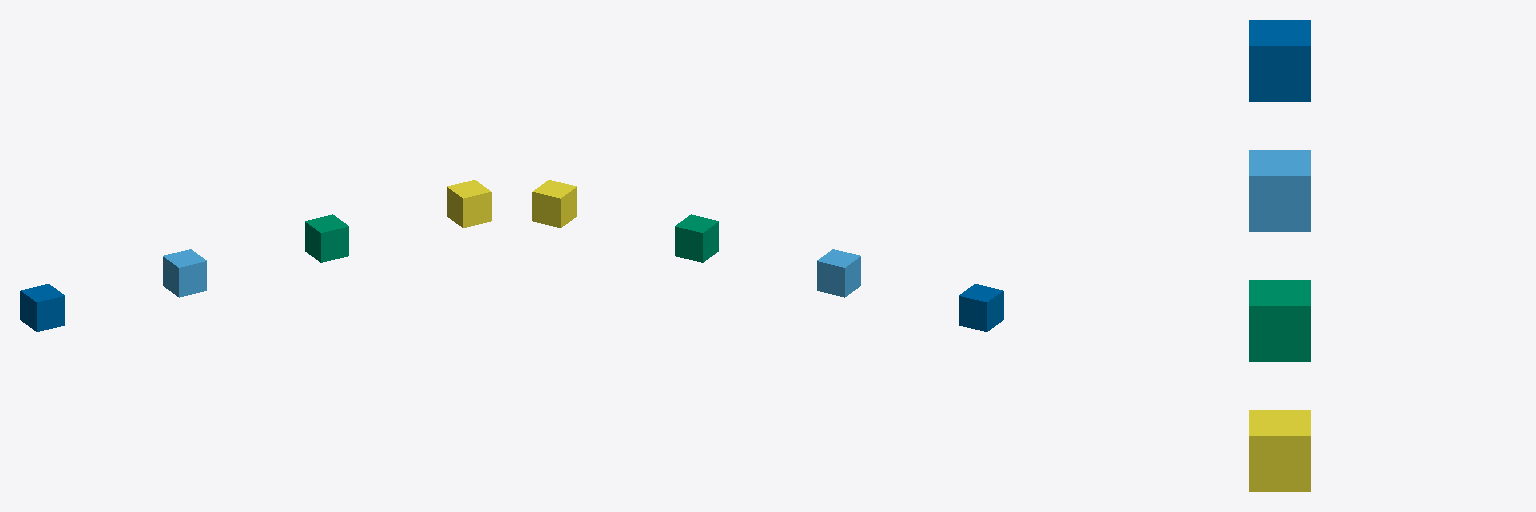
URDF robot description (bot):
<?xml version="1.0" ?>

<robot name="bot" xmlns:xacro="https://www.ros.org/wiki/xacro" >

<gazebo>
    <plugin name="gazebo_ros_control" filename="libgazebo_ros_control.so">
    <robotNamespace>/bot</robotNamespace>
    </plugin>
</gazebo>  

<link name="world" /> 

<gazebo reference="camera1">
  <sensor type="camera" name="camera1">
    <update_rate>30.0</update_rate>
    <camera name="head">
      <horizontal_fov>1.6862634</horizontal_fov>
      <image>
        <width>800</width>
        <height>800</height>
        <format>R8G8B8</format>
      </image>
      <clip>
        <near>0.02</near>
        <far>300</far>
      </clip>
      <noise>
        <type>gaussian</type>
        <!-- Noise is sampled independently per pixel on each frame.
             That pixel's noise value is added to each of its color
             channels, which at that point lie in the range [0,1]. -->
        <mean>0.0</mean>
        <stddev>0.007</stddev>
      </noise>
    </camera>
    <plugin name="camera_controller" filename="libgazebo_ros_camera.so">
      <alwaysOn>true</alwaysOn>
      <updateRate>0.0</updateRate>
      <cameraName>camera1</cameraName>
      <imageTopicName>image_raw</imageTopicName>
      <cameraInfoTopicName>camera_info</cameraInfoTopicName>
      <frameName>camera1</frameName>
      <hackBaseline>0.07</hackBaseline>
      <distortionK1>0.0</distortionK1>
      <distortionK2>0.0</distortionK2>
      <distortionK3>0.0</distortionK3>
      <distortionT1>0.0</distortionT1>
      <distortionT2>0.0</distortionT2>
    </plugin>
  </sensor>
</gazebo>



  <joint name="camera_joint1" type="fixed">
    <axis xyz="0 1 0" />
    <origin xyz="-0.25 0 1" rpy="0 1.571 0"/>
    <parent link="world"/>
    <child link="camera1"/>
  </joint>

  <!-- Camera1 -->
  <link name="camera1">
    <collision>
      <origin xyz="0 0 0" rpy="0 0 0"/>
      <geometry>
    <box size="0.1 0.1 0.1"/>
      </geometry>
    </collision>

    <visual>
      <origin xyz="0 0 0" rpy="0 0 0"/>
      <geometry>
    <box size="0.1 0.1 0.1"/>
      </geometry>
    </visual>

    <inertial>
      <mass value="1e-5" />
      <origin xyz="0 0 0" rpy="0 0 0"/>
      <inertia ixx="1e-6" ixy="0" ixz="0" iyy="1e-6" iyz="0" izz="1e-6" />
    </inertial>
  </link>






  <gazebo reference="camera2">
    <sensor type="camera" name="camera2">
      <update_rate>30.0</update_rate>
      <camera name="head">
        <horizontal_fov>1.6862634</horizontal_fov>
        <image>
          <width>800</width>
          <height>800</height>
          <format>R8G8B8</format>
        </image>
        <clip>
          <near>0.02</near>
          <far>300</far>
        </clip>
        <noise>
          <type>gaussian</type>
          <!-- Noise is sampled independently per pixel on each frame.
               That pixel's noise value is added to each of its color
               channels, which at that point lie in the range [0,1]. -->
          <mean>0.0</mean>
          <stddev>0.007</stddev>
        </noise>
      </camera>
      <plugin name="camera_controller" filename="libgazebo_ros_camera.so">
        <alwaysOn>true</alwaysOn>
        <updateRate>0.0</updateRate>
        <cameraName>camera2</cameraName>
        <imageTopicName>image_raw</imageTopicName>
        <cameraInfoTopicName>camera_info</cameraInfoTopicName>
        <frameName>camera2</frameName>
        <hackBaseline>0.07</hackBaseline>
        <distortionK1>0.0</distortionK1>
        <distortionK2>0.0</distortionK2>
        <distortionK3>0.0</distortionK3>
        <distortionT1>0.0</distortionT1>
        <distortionT2>0.0</distortionT2>
      </plugin>
    </sensor>
  </gazebo>

  
    <joint name="camera_joint2" type="fixed">
      <axis xyz="0 1 0" />
      <origin xyz="0.25 0 1" rpy="0 1.571 0"/>
      <parent link="world"/>
      <child link="camera2"/>
    </joint>
  
    <!-- Camera 2-->
    <link name="camera2">
      <collision>
        <origin xyz="0 0 0" rpy="0 0 0"/>
        <geometry>
      <box size="0.1 0.1 0.1"/>
        </geometry>
      </collision>
  
      <visual>
        <origin xyz="0 0 0" rpy="0 0 0"/>
        <geometry>
      <box size="0.1 0.1 0.1"/>
        </geometry>
      </visual>
  
      <inertial>
        <mass value="1e-5" />
        <origin xyz="0 0 0" rpy="0 0 0"/>
        <inertia ixx="1e-6" ixy="0" ixz="0" iyy="1e-6" iyz="0" izz="1e-6" />
      </inertial>
    </link>




    <gazebo reference="camera3">
      <sensor type="camera" name="camera3">
        <update_rate>30.0</update_rate>
        <camera name="head">
          <horizontal_fov>1.6862634</horizontal_fov>
          <image>
            <width>800</width>
            <height>800</height>
            <format>R8G8B8</format>
          </image>
          <clip>
            <near>0.02</near>
            <far>300</far>
          </clip>
          <noise>
            <type>gaussian</type>
            <!-- Noise is sampled independently per pixel on each frame.
                 That pixel's noise value is added to each of its color
                 channels, which at that point lie in the range [0,1]. -->
            <mean>0.0</mean>
            <stddev>0.007</stddev>
          </noise>
        </camera>
        <plugin name="camera_controller" filename="libgazebo_ros_camera.so">
          <alwaysOn>true</alwaysOn>
          <updateRate>0.0</updateRate>
          <cameraName>camera3</cameraName>
          <imageTopicName>image_raw</imageTopicName>
          <cameraInfoTopicName>camera_info</cameraInfoTopicName>
          <frameName>camera3</frameName>
          <hackBaseline>0.07</hackBaseline>
          <distortionK1>0.0</distortionK1>
          <distortionK2>0.0</distortionK2>
          <distortionK3>0.0</distortionK3>
          <distortionT1>0.0</distortionT1>
          <distortionT2>0.0</distortionT2>
        </plugin>
      </sensor>
    </gazebo>
  
    
      <joint name="camera_joint3" type="fixed">
        <axis xyz="0 1 0" />
        <origin xyz="0.75 0 1" rpy="0 1.571 0"/>
        <parent link="world"/>
        <child link="camera3"/>
      </joint>
    
      <!-- Camera 3-->
      <link name="camera3">
        <collision>
          <origin xyz="0 0 0" rpy="0 0 0"/>
          <geometry>
        <box size="0.1 0.1 0.1"/>
          </geometry>
        </collision>
    
        <visual>
          <origin xyz="0 0 0" rpy="0 0 0"/>
          <geometry>
        <box size="0.1 0.1 0.1"/>
          </geometry>
        </visual>
    
        <inertial>
          <mass value="1e-5" />
          <origin xyz="0 0 0" rpy="0 0 0"/>
          <inertia ixx="1e-6" ixy="0" ixz="0" iyy="1e-6" iyz="0" izz="1e-6" />
        </inertial>
      </link>







      <gazebo reference="camera4">
        <sensor type="camera" name="camera4">
          <update_rate>30.0</update_rate>
          <camera name="head">
            <horizontal_fov>1.6862634</horizontal_fov>
            <image>
              <width>800</width>
              <height>800</height>
              <format>R8G8B8</format>
            </image>
            <clip>
              <near>0.02</near>
              <far>300</far>
            </clip>
            <noise>
              <type>gaussian</type>
              <!-- Noise is sampled independently per pixel on each frame.
                   That pixel's noise value is added to each of its color
                   channels, which at that point lie in the range [0,1]. -->
              <mean>0.0</mean>
              <stddev>0.007</stddev>
            </noise>
          </camera>
          <plugin name="camera_controller" filename="libgazebo_ros_camera.so">
            <alwaysOn>true</alwaysOn>
            <updateRate>0.0</updateRate>
            <cameraName>camera4</cameraName>
            <imageTopicName>image_raw</imageTopicName>
            <cameraInfoTopicName>camera_info</cameraInfoTopicName>
            <frameName>camera4</frameName>
            <hackBaseline>0.07</hackBaseline>
            <distortionK1>0.0</distortionK1>
            <distortionK2>0.0</distortionK2>
            <distortionK3>0.0</distortionK3>
            <distortionT1>0.0</distortionT1>
            <distortionT2>0.0</distortionT2>
          </plugin>
        </sensor>
      </gazebo>
    
      
        <joint name="camera_joint4" type="fixed">
          <axis xyz="0 1 0" />
          <origin xyz="-0.75 0 1" rpy="0 1.571 0"/>
          <parent link="world"/>
          <child link="camera4"/>
        </joint>
      
        <!-- Camera 4-->
        <link name="camera4">
          <collision>
            <origin xyz="0 0 0" rpy="0 0 0"/>
            <geometry>
          <box size="0.1 0.1 0.1"/>
            </geometry>
          </collision>
      
          <visual>
            <origin xyz="0 0 0" rpy="0 0 0"/>
            <geometry>
          <box size="0.1 0.1 0.1"/>
            </geometry>
          </visual>
      
          <inertial>
            <mass value="1e-5" />
            <origin xyz="0 0 0" rpy="0 0 0"/>
            <inertia ixx="1e-6" ixy="0" ixz="0" iyy="1e-6" iyz="0" izz="1e-6" />
          </inertial>
        </link>
        
        <link name="april1">
      
          <visual>
            <origin xyz="0 0 0" rpy="0 0 0"/>
            <geometry>
             <mesh filename="package://dot_description/mesh/tag13/tag13.dae" scale="1 1 1"/>
            </geometry>
          </visual>
      
          <inertial>
        <origin rpy="0 0 0" xyz="0 0 0"/>
        <mass value="0.002"/>
        <inertia ixx="0.0006" ixy="0" ixz="0" iyy="0.0006" iyz="0" izz="0.0012"/>
    </inertial>
        </link>
        
        <gazebo reference="april1">
    <material>package://dot_description/mesh/tag13/gazebo.material</material>
    <kp>10000000.0</kp>
    <kd>1.0</kd>
    <mu1>4.0</mu1>
    <mu2>4.0</mu2>
    <maxVel>0.0</maxVel>
    <minDepth>0.001</minDepth>
    </gazebo>
    <link name="april2">
      
          <visual>
            <origin xyz="0 0 0" rpy="0 0 0"/>
            <geometry>
             <mesh filename="package://dot_description/mesh/tag14/tag14.dae" scale="1 1 1"/>
            </geometry>
          </visual>
      
          <inertial>
        <origin rpy="0 0 0" xyz="0 0 0"/>
        <mass value="0.002"/>
        <inertia ixx="0.0006" ixy="0" ixz="0" iyy="0.0006" iyz="0" izz="0.0012"/>
    </inertial>
        </link>
        
        <gazebo reference="april2">
    <material>package://dot_description/mesh/tag14/gazebo.material</material>
    <kp>10000000.0</kp>
    <kd>1.0</kd>
    <mu1>4.0</mu1>
    <mu2>4.0</mu2>
    <maxVel>0.0</maxVel>
    <minDepth>0.001</minDepth>
    </gazebo>
    <link name="april3">
      
          <visual>
            <origin xyz="0 0 0" rpy="0 0 0"/>
            <geometry>
             <mesh filename="package://dot_description/mesh/tag15/tag15.dae" scale="1 1 1"/>
            </geometry>
          </visual>
      
          <inertial>
        <origin rpy="0 0 0" xyz="0 0 0"/>
        <mass value="0.002"/>
        <inertia ixx="0.0006" ixy="0" ixz="0" iyy="0.0006" iyz="0" izz="0.0012"/>
    </inertial>
        </link>
        
        <gazebo reference="april3">
    <material>package://dot_description/mesh/tag15/gazebo.material</material>
    <kp>10000000.0</kp>
    <kd>1.0</kd>
    <mu1>4.0</mu1>
    <mu2>4.0</mu2>
    <maxVel>0.0</maxVel>
    <minDepth>0.001</minDepth>
</gazebo>
    <joint name="apri1" type="fixed">
          <origin xyz="0 0 0.04" rpy="0 0 0"/>
          <parent link="world"/>
          <child link="april1"/>
        </joint>
    <joint name="apri2" type="fixed">
          <origin xyz="0.6096 0 0.04" rpy="0 0 0"/>
          <parent link="world"/>
          <child link="april2"/>
        </joint>
        <joint name="apri3" type="fixed">
          <origin xyz="-0.6096 0 0.04" rpy="0 0 0"/>
          <parent link="world"/>
          <child link="april3"/>
        </joint>

</robot>

--- Facts derived from the render (not from the file) ---
The picture shows the robot from 3 angles, left to right: view 1: azimuth 30°, elevation 25°; view 2: azimuth 150°, elevation 25°; view 3: azimuth 270°, elevation 25°; orthographic projection.
Robot: bot — 8 links, 7 joints (7 fixed); root link world; default pose: every joint at zero.
Links seen in each view (by area): view 1: camera3, camera4, camera1, camera2; view 2: camera3, camera4, camera1, camera2; view 3: camera1, camera2, camera3, camera4.
Boxes of the visible links, left/top/right/bottom form: camera3: left=447, top=180, right=491, bottom=227; camera4: left=20, top=284, right=64, bottom=331; camera1: left=163, top=249, right=206, bottom=297; camera2: left=305, top=214, right=348, bottom=262; camera3: left=532, top=180, right=576, bottom=227; camera4: left=959, top=284, right=1003, bottom=331; camera1: left=817, top=249, right=860, bottom=297; camera2: left=675, top=214, right=718, bottom=262; camera1: left=1249, top=150, right=1310, bottom=231; camera2: left=1249, top=280, right=1310, bottom=361; camera3: left=1249, top=410, right=1310, bottom=491; camera4: left=1249, top=20, right=1310, bottom=101.
Size in the robot's own frame: 1.6 by 0.1 by 0.1 metres.
0 mesh visuals loaded from 3 distinct referenced files (none loaded); not drawn: 3 (reference not matched to a file when rendering).